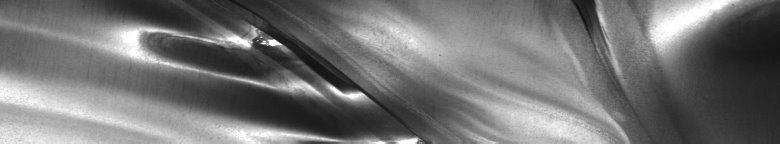ke: (134, 12, 412, 136)
